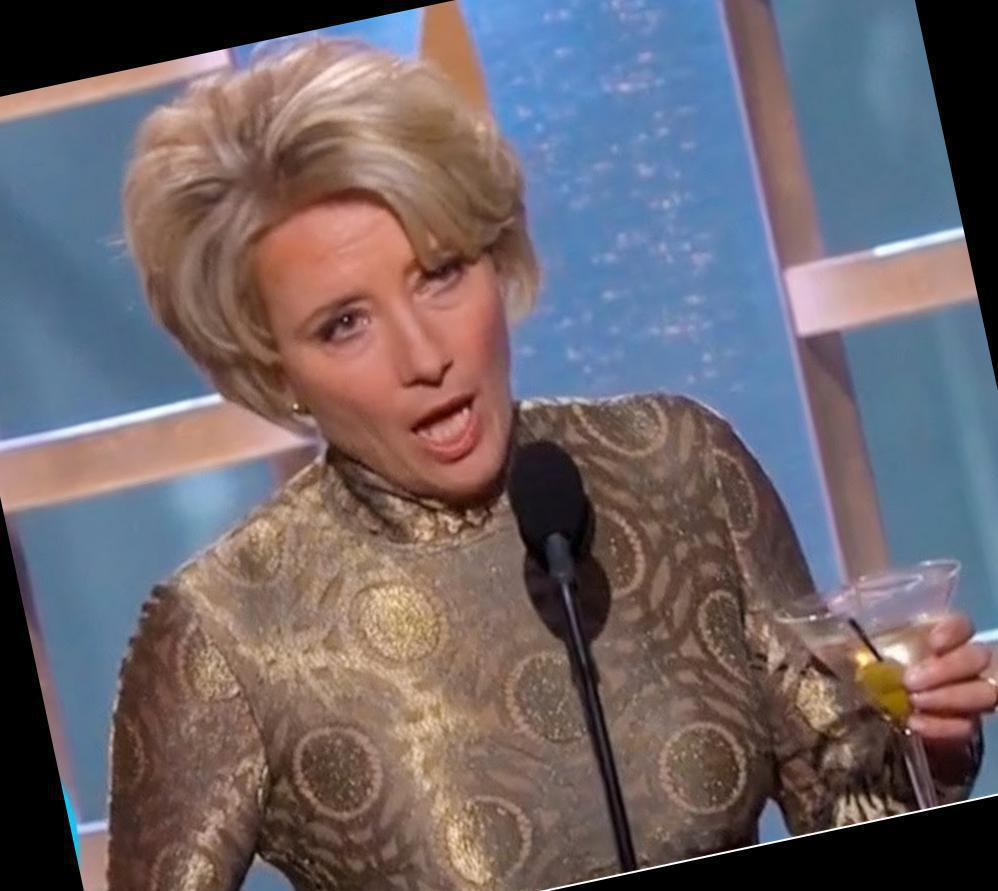Drunk: (263, 212, 515, 490)
